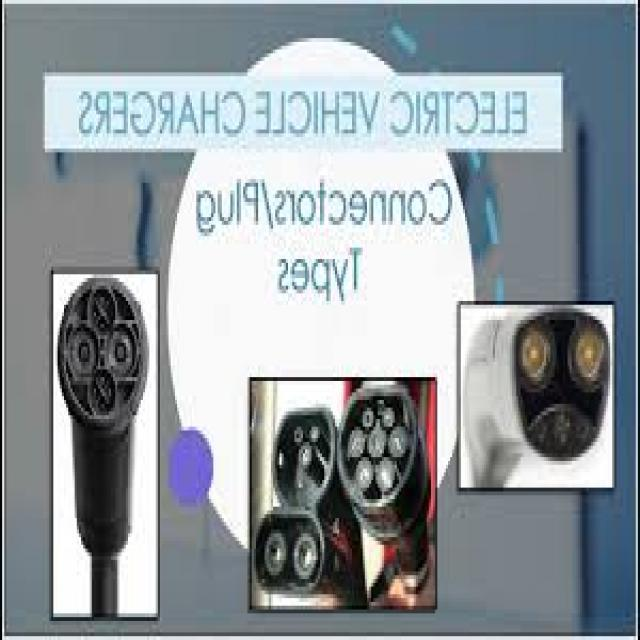Type 2: (311, 366, 440, 515)
